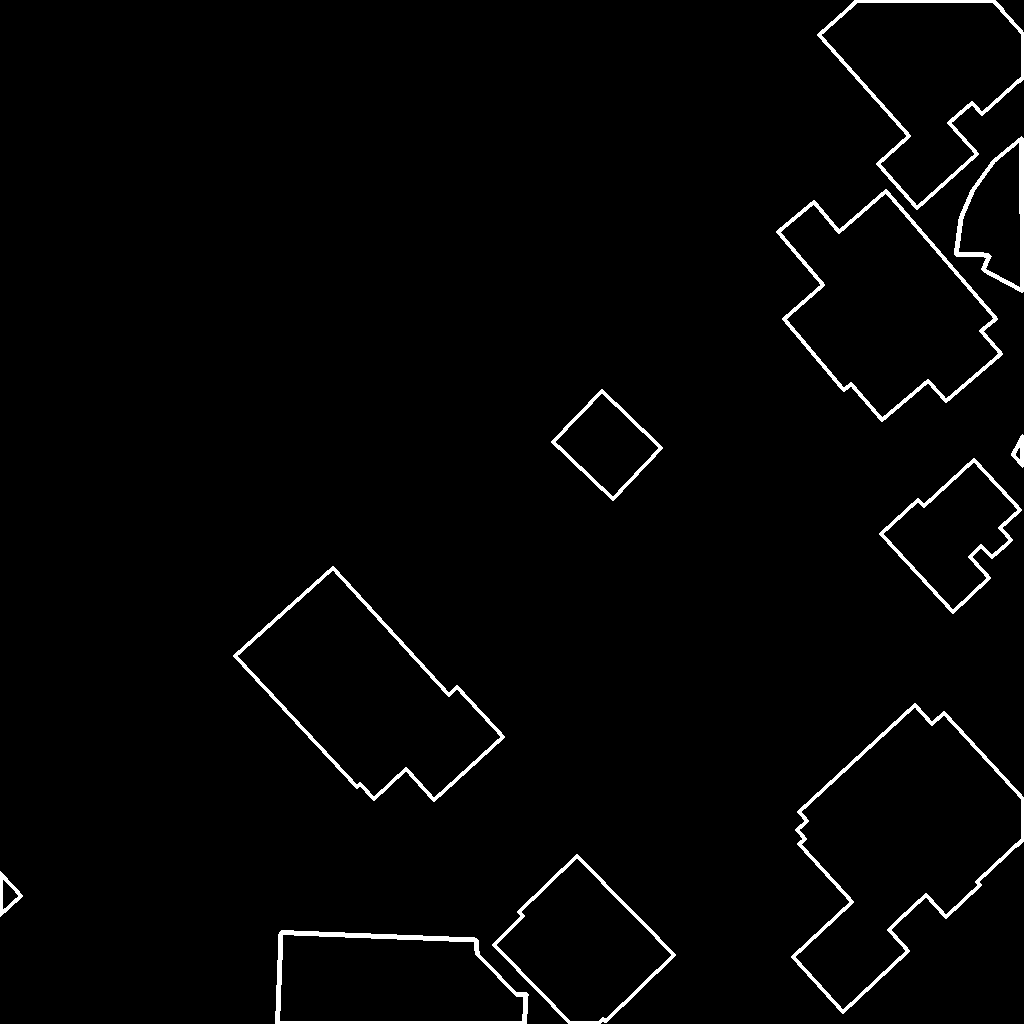building: (793, 705, 1024, 1013), (235, 568, 504, 801), (778, 191, 1002, 421), (819, 0, 1024, 209), (494, 856, 675, 1024), (277, 932, 527, 1024), (881, 460, 1021, 613), (553, 391, 662, 500), (956, 138, 1024, 292), (0, 873, 22, 916), (1013, 436, 1024, 467)
